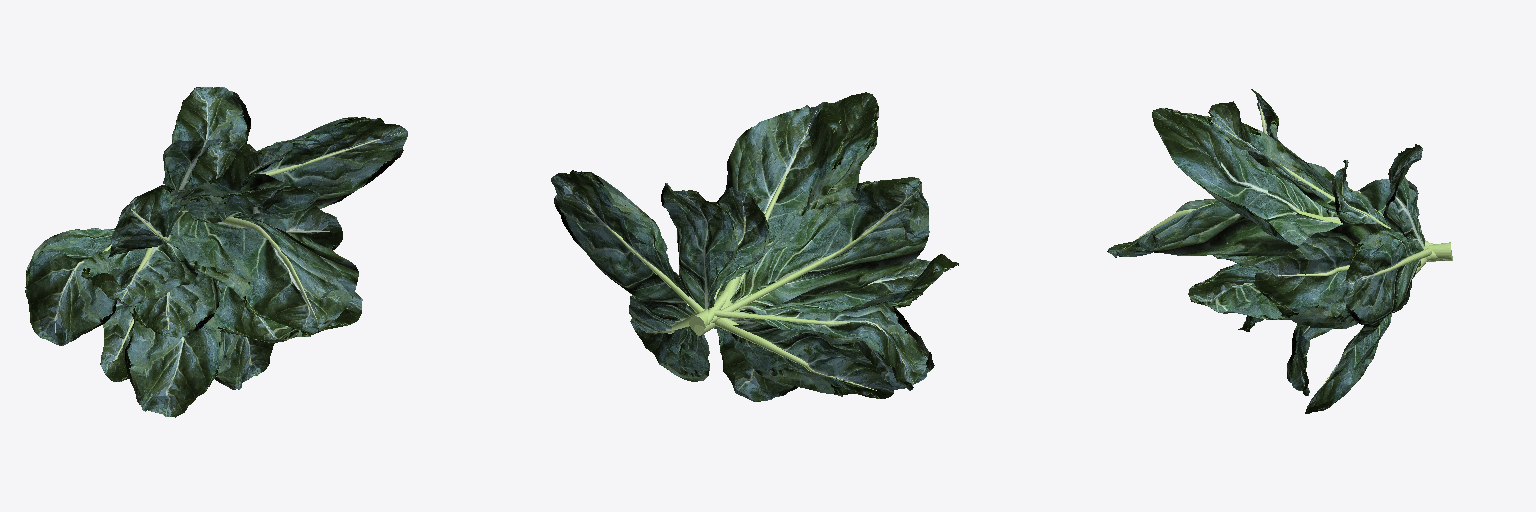
3 renders of one model, left to right at view 1: azimuth 30°, elevation 25°; view 2: azimuth 150°, elevation 25°; view 3: azimuth 270°, elevation 25°, orthographic.
Visible parts, largest first — view 1: plant_Plane.093; view 2: plant_Plane.093; view 3: plant_Plane.093.
Part boxes in pixels (x1,y1,x2,y2): plant_Plane.093: (25,87,407,417); plant_Plane.093: (551,92,958,401); plant_Plane.093: (1107,89,1452,413).
Size of the model in its own units: 0.3501 by 0.2489 by 0.2846.
2 materials, 2 textured.